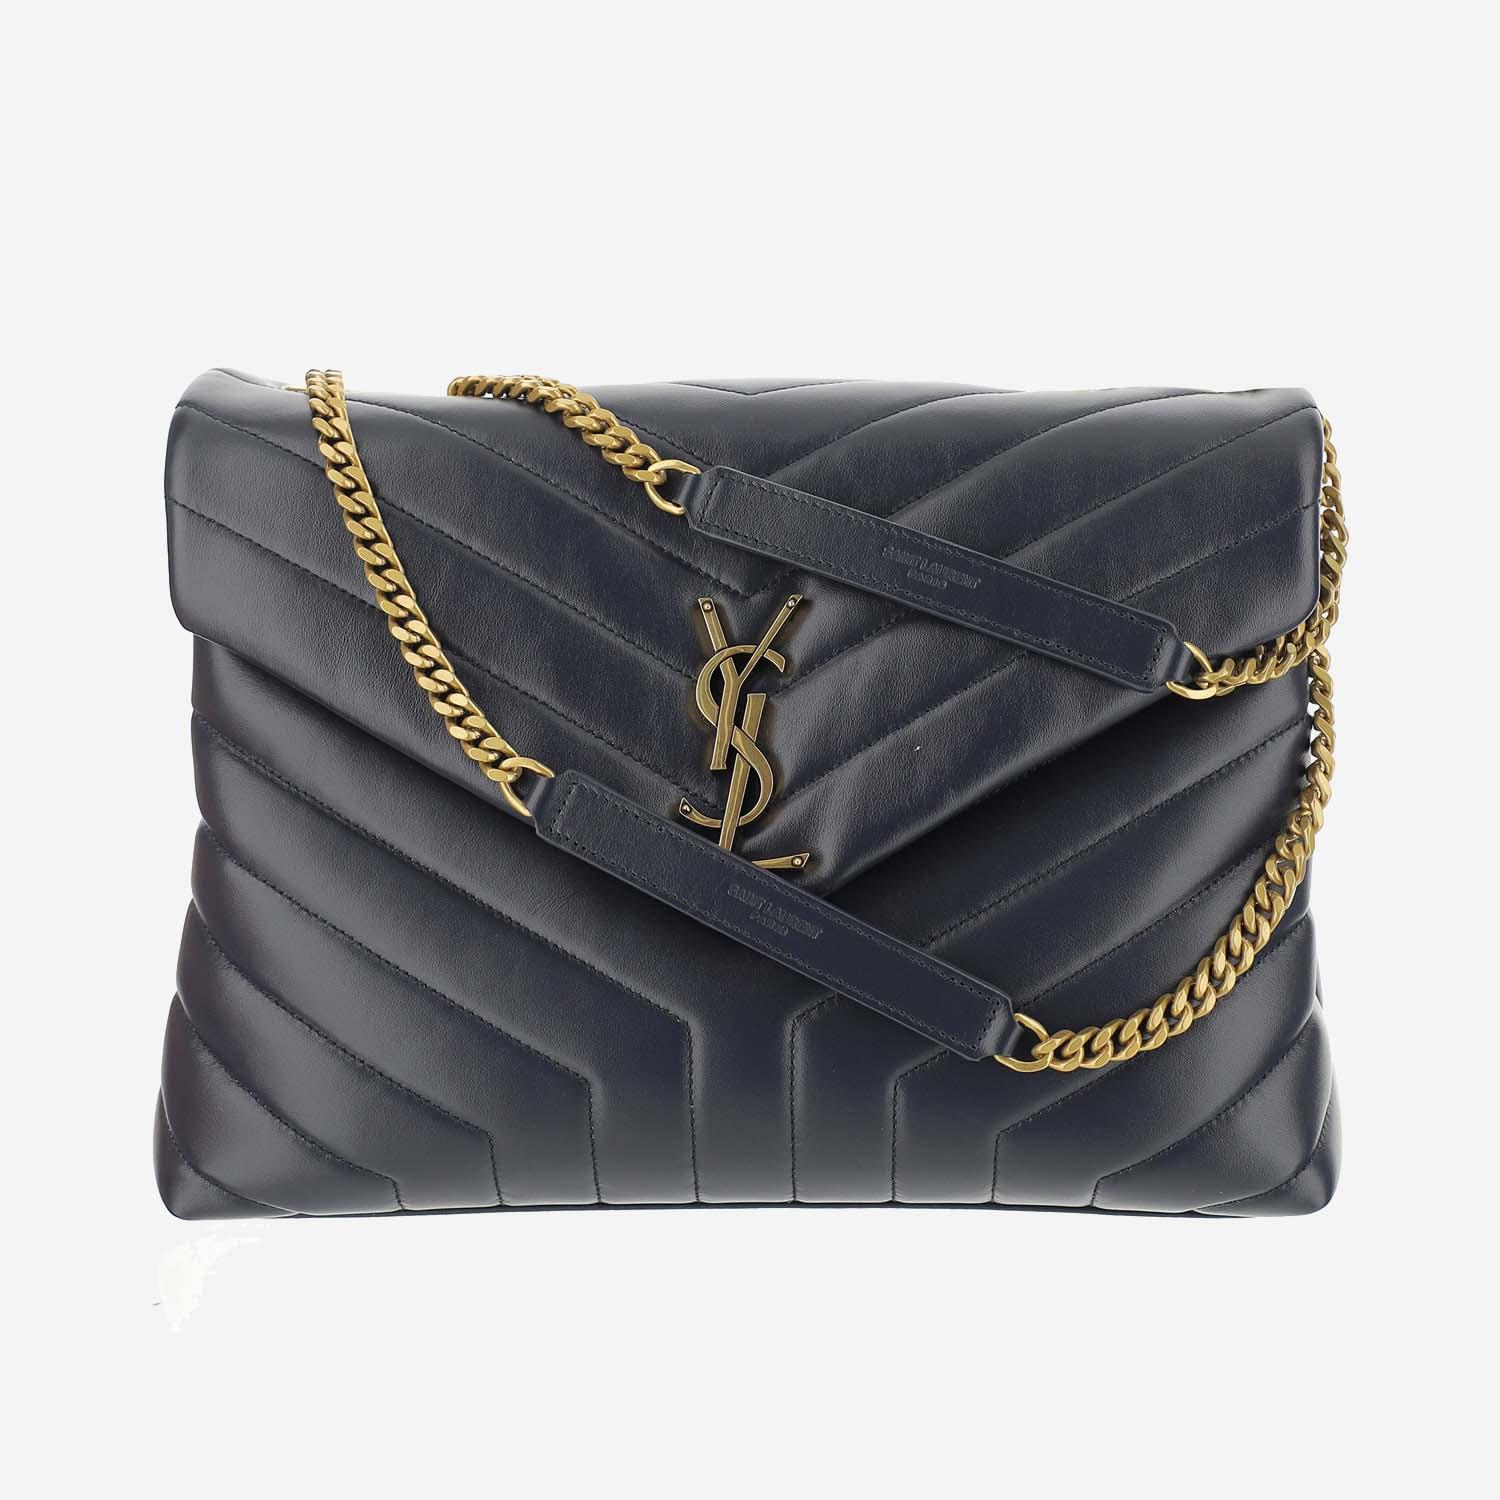YVES-SAINT-LAURENT: (677, 592, 810, 870)
